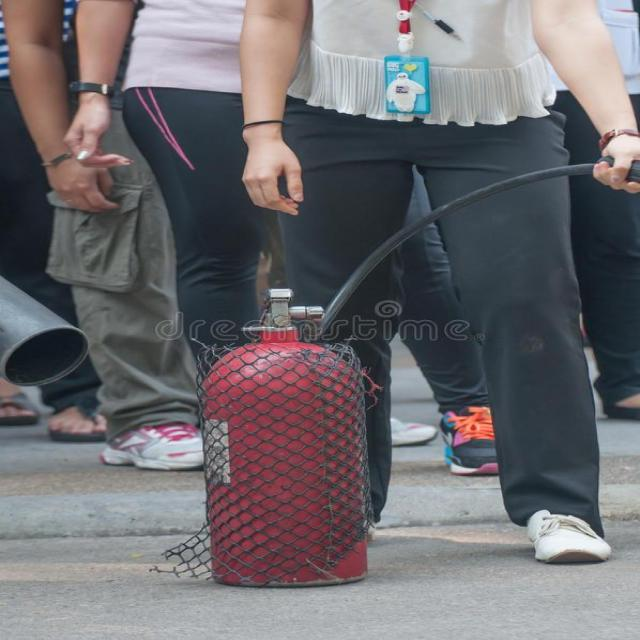fire_extinguisher: (186, 154, 639, 592)
